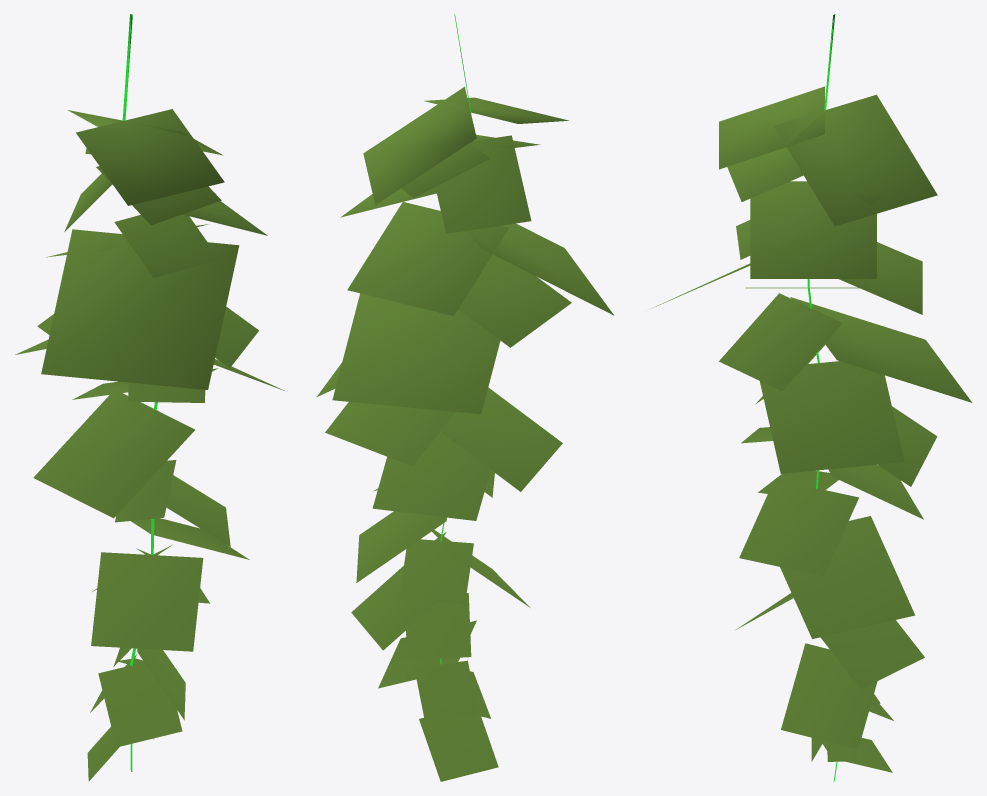
The model's file is Vine.fbx.
The picture shows the model from 3 angles, left to right: view 1: azimuth 30°, elevation 25°; view 2: azimuth 150°, elevation 25°; view 3: azimuth 270°, elevation 25°; orthographic projection. The views are drawn at different scales.
Parts seen in each view (by area): view 1: NurbsPath.001; view 2: NurbsPath.001; view 3: NurbsPath.001.
Boxes of the visible parts, x1,y1,x2,y2 form: NurbsPath.001: (15,14,284,781); NurbsPath.001: (316,14,614,781); NurbsPath.001: (652,14,972,781).
Size of the model in its own units: 142 by 400 by 156.
